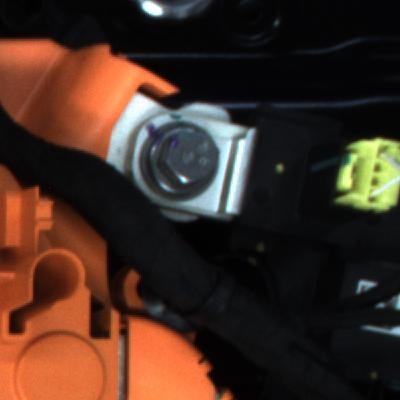nut_b: (135, 115, 245, 207)
